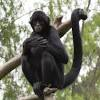monkey: (20, 3, 91, 94)
